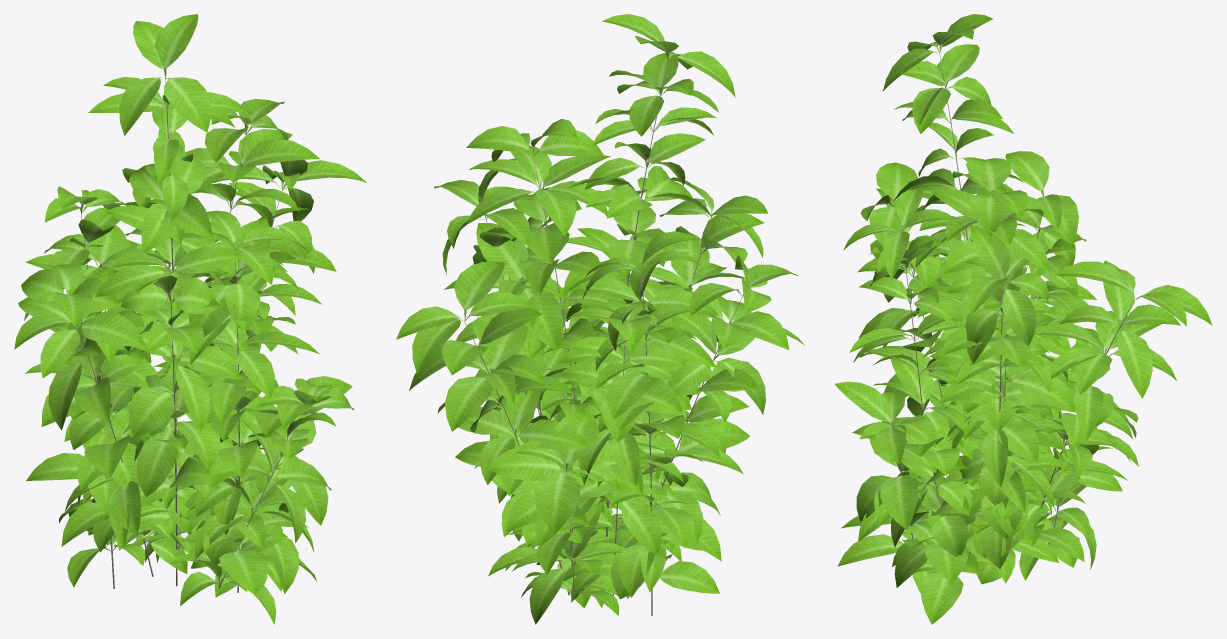
The picture shows the model from 3 angles, left to right: view 1: azimuth 30°, elevation 25°; view 2: azimuth 150°, elevation 25°; view 3: azimuth 270°, elevation 25°; orthographic projection. The views are drawn at different scales.
Parts seen in each view (by area): view 1: Leaves, Branch; view 2: Leaves, Branch; view 3: Leaves, Branch.
Boxes of the visible parts, x1,y1,x2,y2 form: Leaves: (14, 14, 366, 624); Branch: (77, 78, 304, 592); Leaves: (396, 14, 805, 624); Branch: (464, 59, 742, 615); Leaves: (835, 14, 1212, 624); Branch: (900, 54, 1133, 539).
Size of the model in its own units: 37.53 by 59.63 by 36.79.
